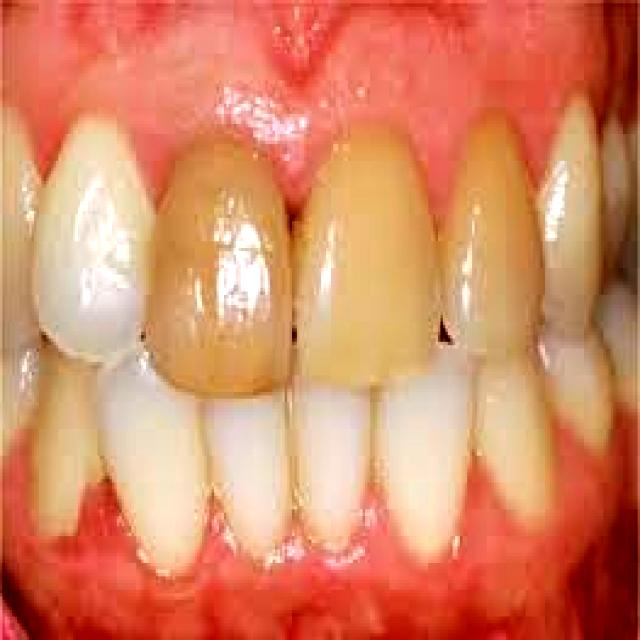tooth-discoloration: (297, 124, 438, 385), (146, 137, 290, 392), (440, 114, 540, 352)
